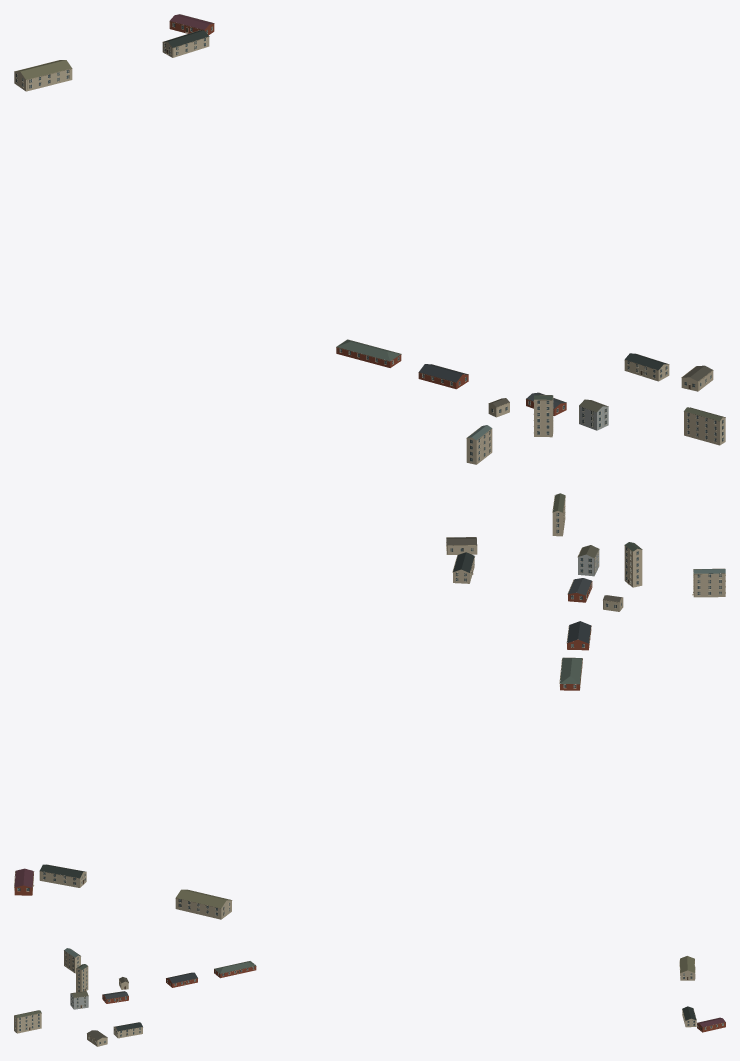
The picture shows the model from 3 angles, top to bottom: view 1: azimuth 30°, elevation 25°; view 2: azimuth 150°, elevation 25°; view 3: azimuth 270°, elevation 25°; orthographic projection. The views are drawn at different scales.
Visible parts, largest first — view 1: -1_12_608383942_0, -1_12_608383945_3; view 2: -1_12_608383942_0, -1_12_608383945_3; view 3: -1_12_608383942_0, -1_12_608383945_3, -1_12_608383944_2.
Boxes of the visible parts, left/top/right/bottom form: -1_12_608383942_0: left=14, top=14, right=725, bottom=464; -1_12_608383945_3: left=169, top=21, right=566, bottom=415; -1_12_608383942_0: left=14, top=493, right=725, bottom=919; -1_12_608383945_3: left=14, top=581, right=592, bottom=895; -1_12_608383942_0: left=14, top=948, right=725, bottom=1046; -1_12_608383945_3: left=102, top=966, right=725, bottom=1032; -1_12_608383944_2: left=70, top=993, right=88, bottom=1009.
Size of the model in its own units: 141 by 20.82 by 506.
